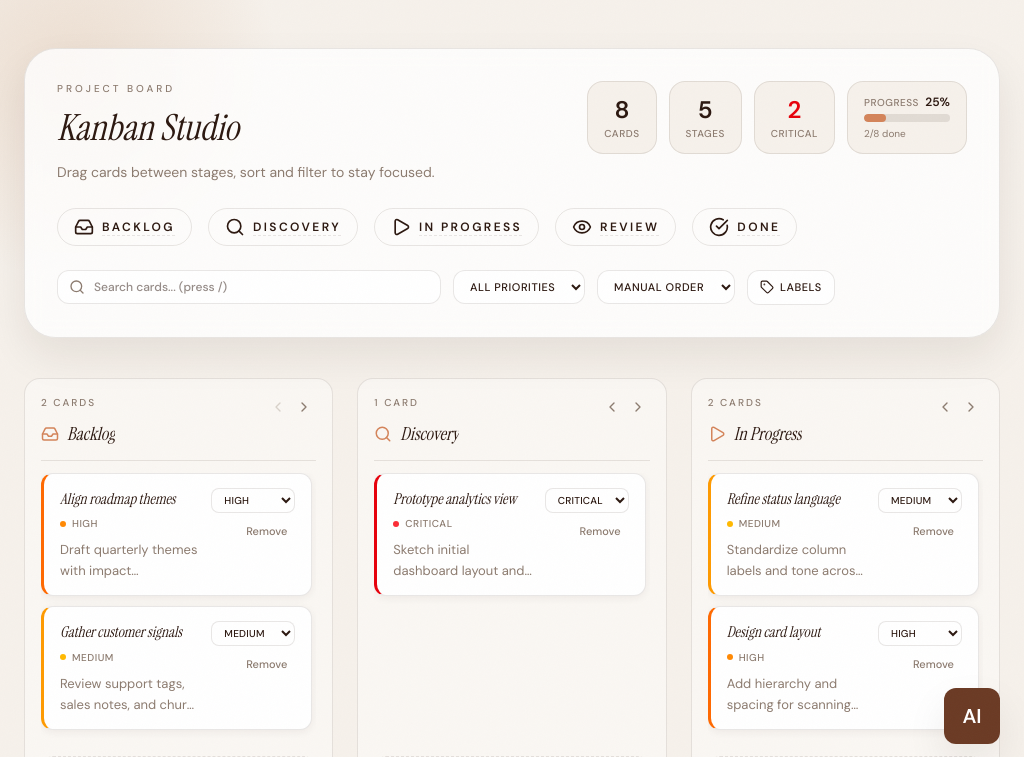
it: KanbanBoard › shows ai reply in sidebar chat
The width and height of the screenshot is (1024, 757).
Expected: the heading "Kanban Studio" is shown, [57,104,239,151]
Click the button with test id "open-ai-chat". click: point(972, 716)
box: [944,688,1000,744]
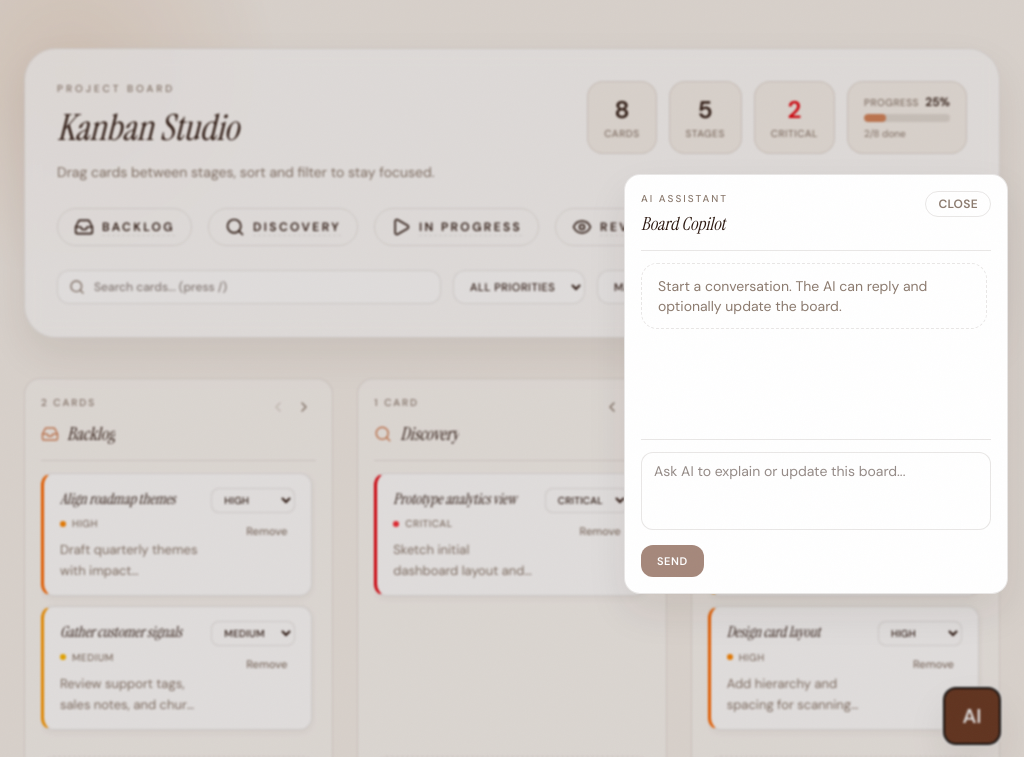
Type "Summarize" into the text box with placeholder "Ask AI to explain or update this board...". click: point(816, 490)
box: [641,452,991,530]
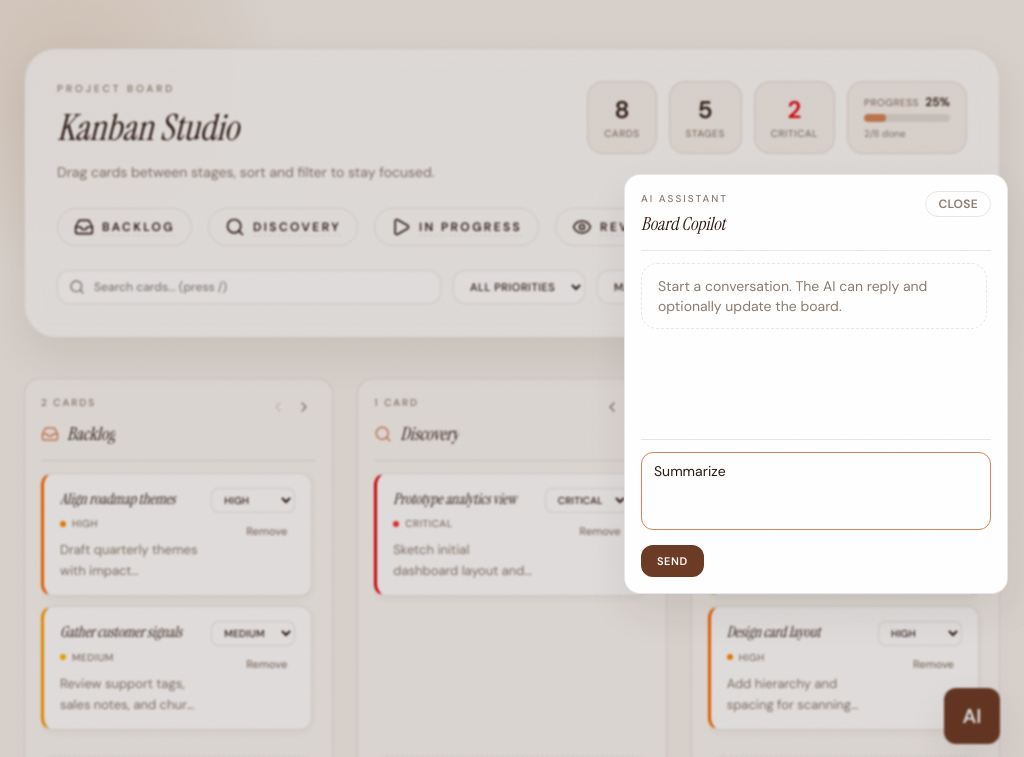
Click the button with test id "ai-chat-send". click: point(672, 561)
box: [641,544,704,577]
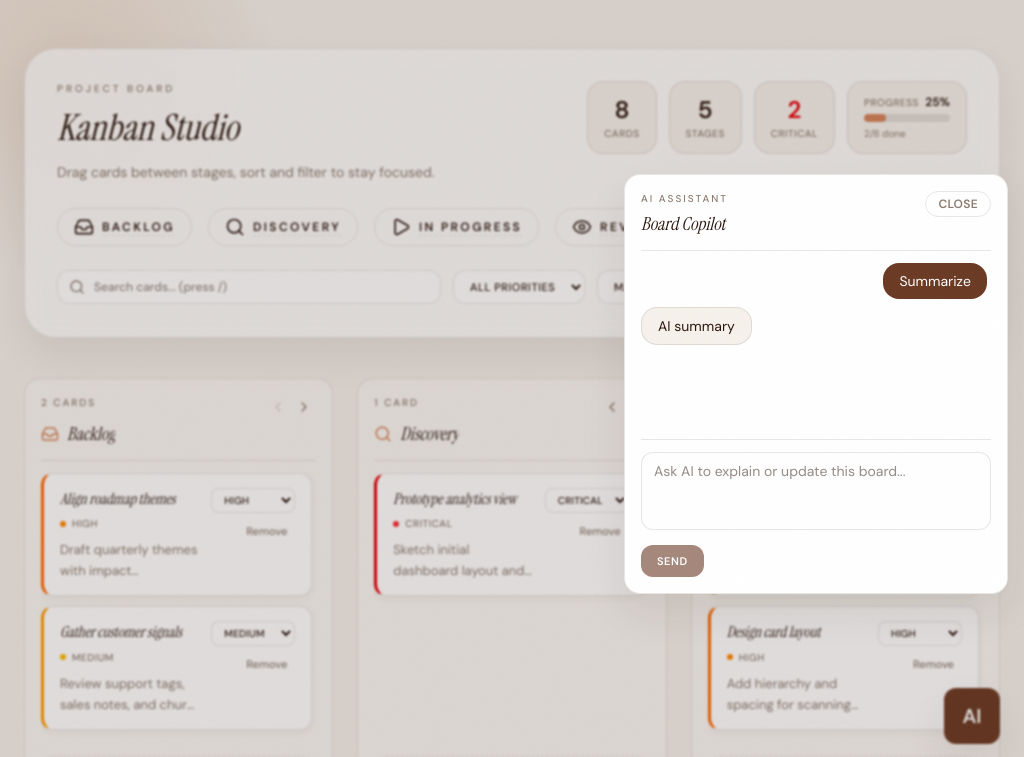
Expected: the text "AI summary" is shown, [658,317,735,335]
